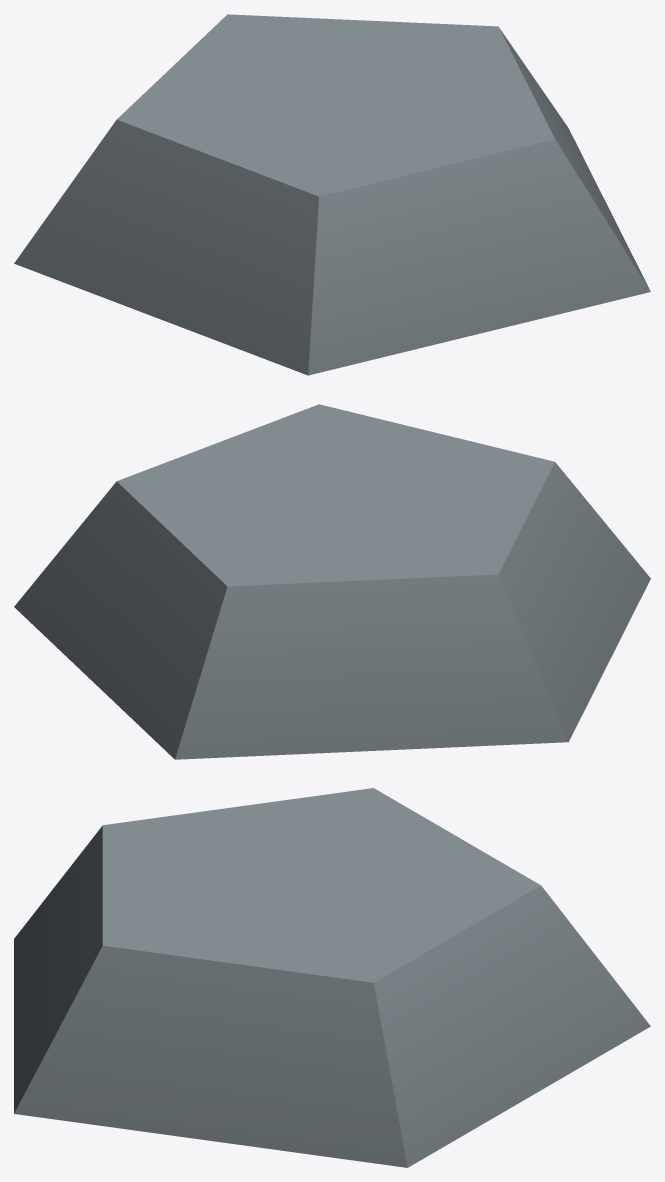
The model's file is d_rock_single_A.glb.
3 views of the same model, one above another, from view 1: azimuth 30°, elevation 25°; view 2: azimuth 150°, elevation 25°; view 3: azimuth 270°, elevation 25° (orthographic). The views are drawn at different scales.
Visible parts, largest first — view 1: rock_single_A; view 2: rock_single_A; view 3: rock_single_A.
Boxes of the visible parts, x1,y1,x2,y2 form: rock_single_A: (14,14,650,375); rock_single_A: (14,404,650,759); rock_single_A: (14,788,650,1167).
Size of the model in its own units: 0.2982 by 0.0693 by 0.2836.
1 material, 1 textured.
